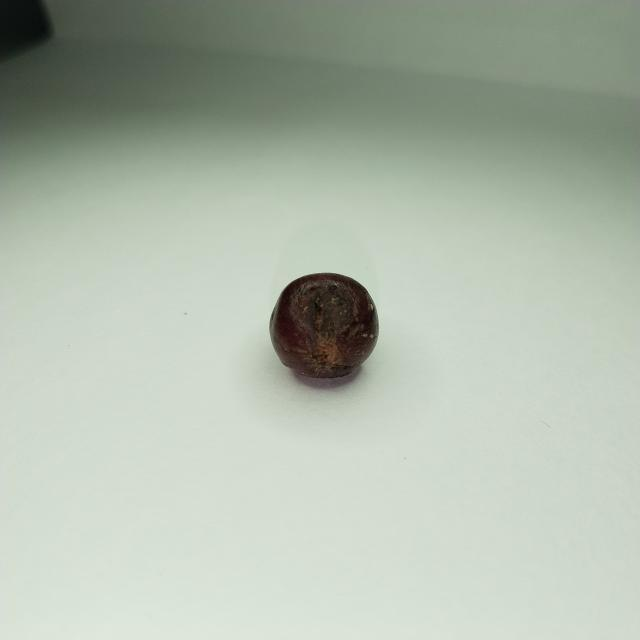Infectado: (270, 273, 379, 377)
